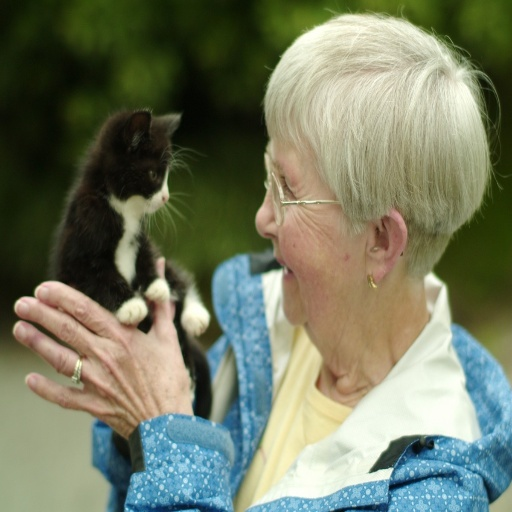hand: (14, 271, 206, 446), (152, 256, 176, 320)
